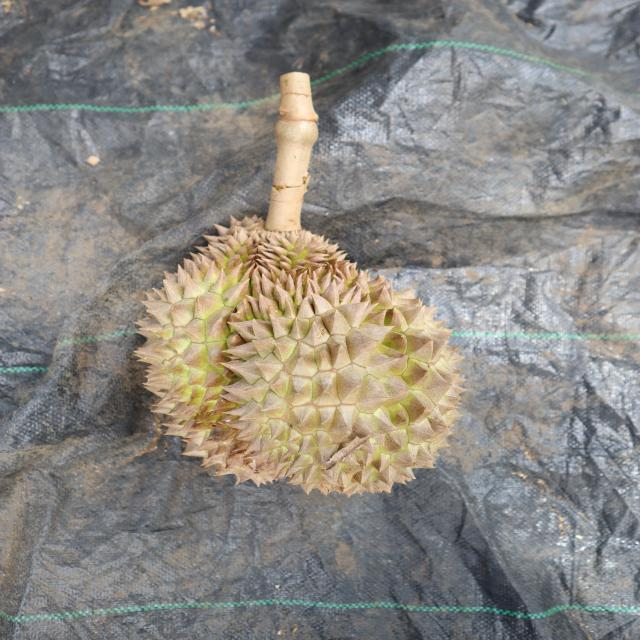mature: (131, 211, 469, 498)
